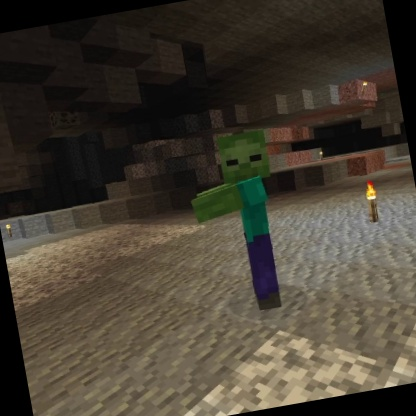zombie: (176, 124, 300, 324)
